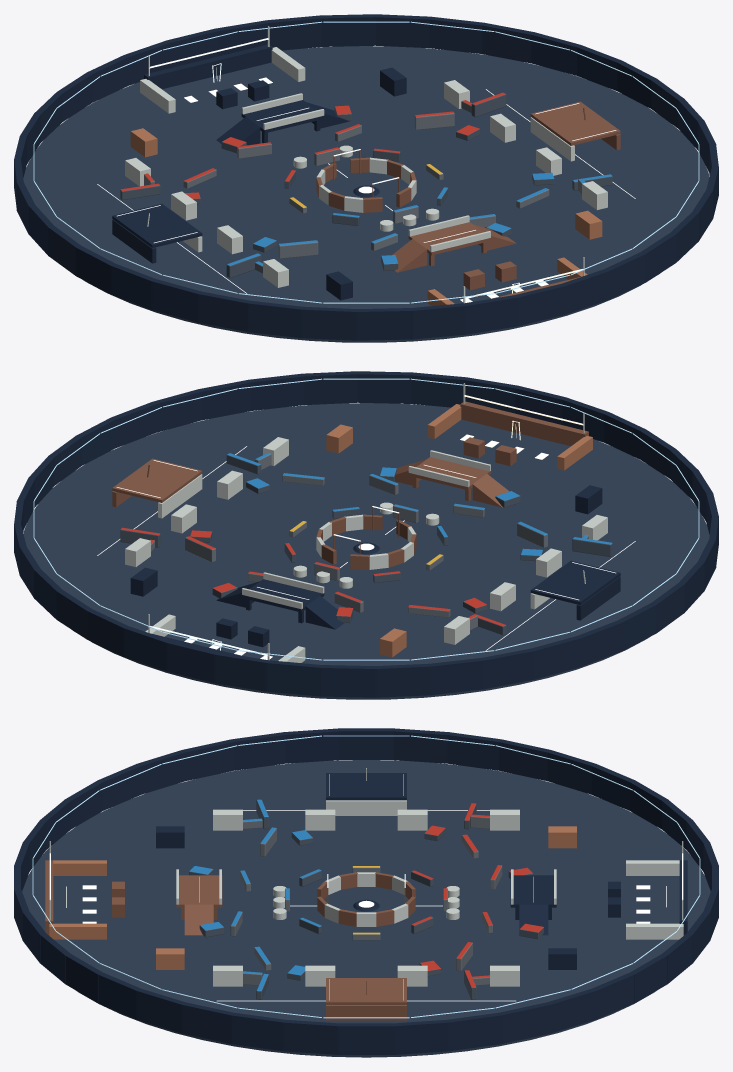
The model's file is riftline_map_concourse_cover_v2.glb.
The picture shows the model from 3 angles, top to bottom: view 1: azimuth 30°, elevation 25°; view 2: azimuth 150°, elevation 25°; view 3: azimuth 270°, elevation 25°; orthographic projection.
Visible parts, largest first — view 1: _MeshInstance3D_3, _MeshInstance3D_135, _MeshInstance3D_271, _MeshInstance3D_265, _MeshInstance3D_45, _MeshInstance3D_42, _MeshInstance3D_48, _MeshInstance3D_51, _MeshInstance3D_105, _MeshInstance3D_108, _MeshInstance3D_54, _MeshInstance3D_39 (+49 smaller); view 2: _MeshInstance3D_3, _MeshInstance3D_126, _MeshInstance3D_271, _MeshInstance3D_265, _MeshInstance3D_87, _MeshInstance3D_90, _MeshInstance3D_84, _MeshInstance3D_81, _MeshInstance3D_27, _MeshInstance3D_24, _MeshInstance3D_78, _MeshInstance3D_93 (+46 smaller); view 3: _MeshInstance3D_3, _MeshInstance3D_265, _MeshInstance3D_271, _MeshInstance3D_123, _MeshInstance3D_9, _MeshInstance3D_6, _MeshInstance3D_12, _MeshInstance3D_120, _MeshInstance3D_69, _MeshInstance3D_63, _MeshInstance3D_66, _MeshInstance3D_60 (+49 smaller).
Boxes of the visible parts, x1,y1,x2,y2 form: _MeshInstance3D_3: (23, 46, 709, 342); _MeshInstance3D_135: (144, 44, 272, 89); _MeshInstance3D_271: (530, 101, 620, 145); _MeshInstance3D_265: (112, 203, 202, 247); _MeshInstance3D_45: (356, 308, 413, 340); _MeshInstance3D_42: (411, 303, 467, 339); _MeshInstance3D_48: (301, 306, 357, 340); _MeshInstance3D_51: (248, 300, 304, 338); _MeshInstance3D_105: (321, 14, 376, 46); _MeshInstance3D_108: (374, 14, 431, 47); _MeshInstance3D_54: (197, 291, 249, 331); _MeshInstance3D_39: (464, 295, 518, 334); _MeshInstance3D_3: (23, 403, 709, 699); _MeshInstance3D_126: (460, 401, 588, 446); _MeshInstance3D_271: (112, 458, 202, 502); _MeshInstance3D_265: (530, 560, 620, 604); _MeshInstance3D_87: (319, 665, 376, 697); _MeshInstance3D_90: (265, 660, 321, 696); _MeshInstance3D_84: (374, 663, 431, 697); _MeshInstance3D_81: (428, 657, 484, 695); _MeshInstance3D_27: (356, 371, 412, 403); _MeshInstance3D_24: (303, 371, 358, 404); _MeshInstance3D_78: (482, 648, 535, 688); _MeshInstance3D_93: (214, 652, 266, 691); _MeshInstance3D_3: (22, 760, 710, 1057); _MeshInstance3D_265: (326, 773, 406, 800); _MeshInstance3D_271: (326, 978, 406, 1004); _MeshInstance3D_123: (392, 1020, 449, 1054); _MeshInstance3D_9: (283, 1019, 340, 1054); _MeshInstance3D_6: (338, 1023, 394, 1054); _MeshInstance3D_12: (230, 1012, 286, 1051); _MeshInstance3D_120: (446, 1012, 502, 1051); _MeshInstance3D_69: (393, 728, 449, 763); _MeshInstance3D_63: (285, 728, 340, 763); _MeshInstance3D_66: (339, 728, 394, 759); _MeshInstance3D_60: (231, 732, 286, 770).
Bounding box in the file's own units: 122 × 7.75 × 122.
